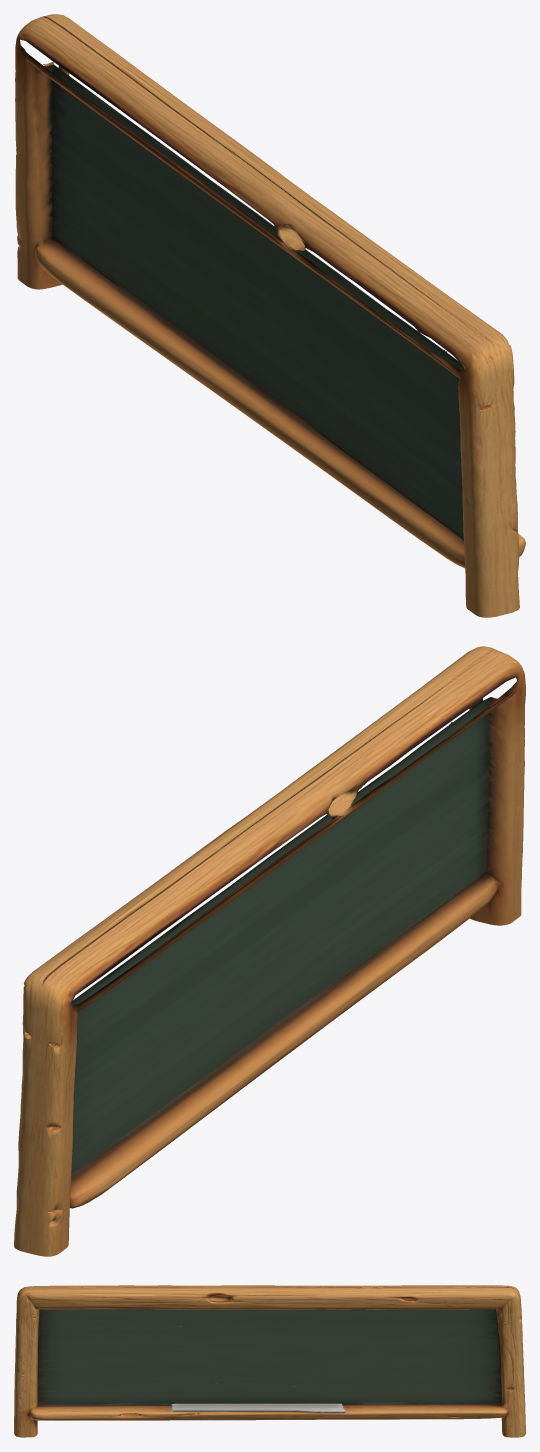
The model's file is kitchen-title-board.glb.
The picture shows the model from 3 angles, top to bottom: view 1: azimuth 30°, elevation 25°; view 2: azimuth 150°, elevation 25°; view 3: azimuth 270°, elevation 25°; orthographic projection. The views are drawn at different scales.
Parts seen in each view (by area): view 1: tripo_node_ef8e4a8d-4261-4354-8479-7f43c7c3d91d; view 2: tripo_node_ef8e4a8d-4261-4354-8479-7f43c7c3d91d; view 3: tripo_node_ef8e4a8d-4261-4354-8479-7f43c7c3d91d.
Boxes of the visible parts, left/top/right/bottom form: tripo_node_ef8e4a8d-4261-4354-8479-7f43c7c3d91d: left=15, top=14, right=525, bottom=617; tripo_node_ef8e4a8d-4261-4354-8479-7f43c7c3d91d: left=14, top=646, right=525, bottom=1256; tripo_node_ef8e4a8d-4261-4354-8479-7f43c7c3d91d: left=14, top=1285, right=525, bottom=1437.
Bounding box in the file's own units: 0.1457 × 0.5 × 1.6.
1 material, 1 textured.
